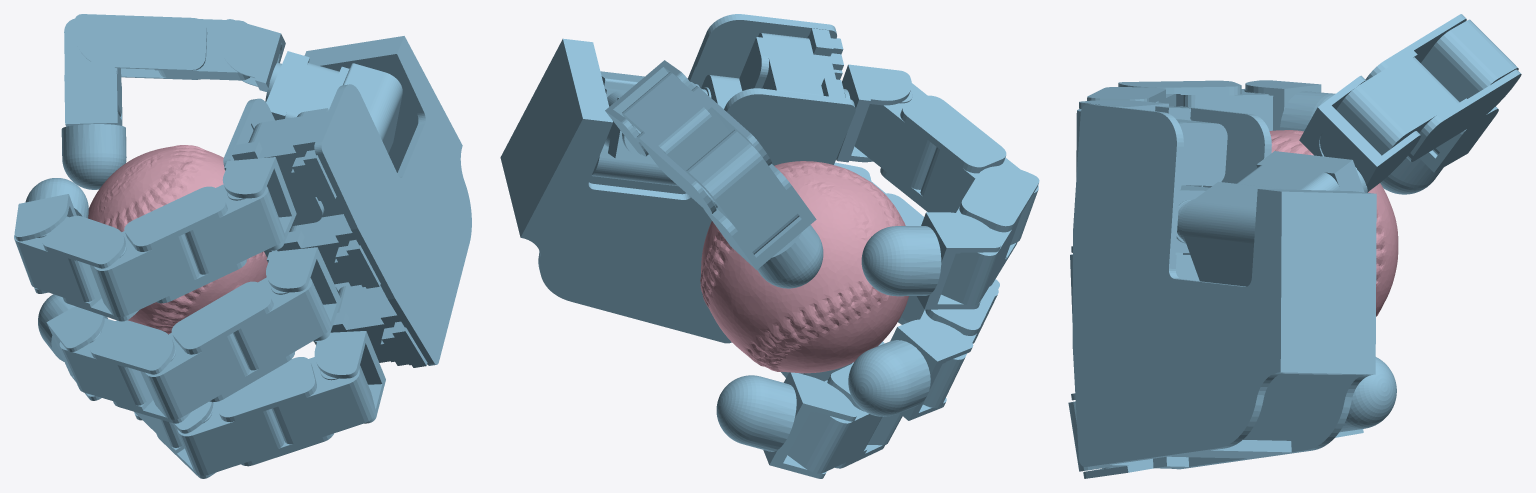
File: Allegro_ycb+baseball_mesh.glb
3 views of the same model, side by side, from view 1: azimuth 30°, elevation 25°; view 2: azimuth 150°, elevation 25°; view 3: azimuth 270°, elevation 25° (orthographic). The views are drawn at different scales.
Visible parts, largest first — view 1: world; view 2: world; view 3: world.
Part boxes in pixels (bbox=[...]): world: bbox=[14, 14, 471, 478]; world: bbox=[500, 14, 1039, 478]; world: bbox=[1068, 14, 1521, 478].
Size of the model in its own units: 0.1949 by 0.1547 by 0.1418.
